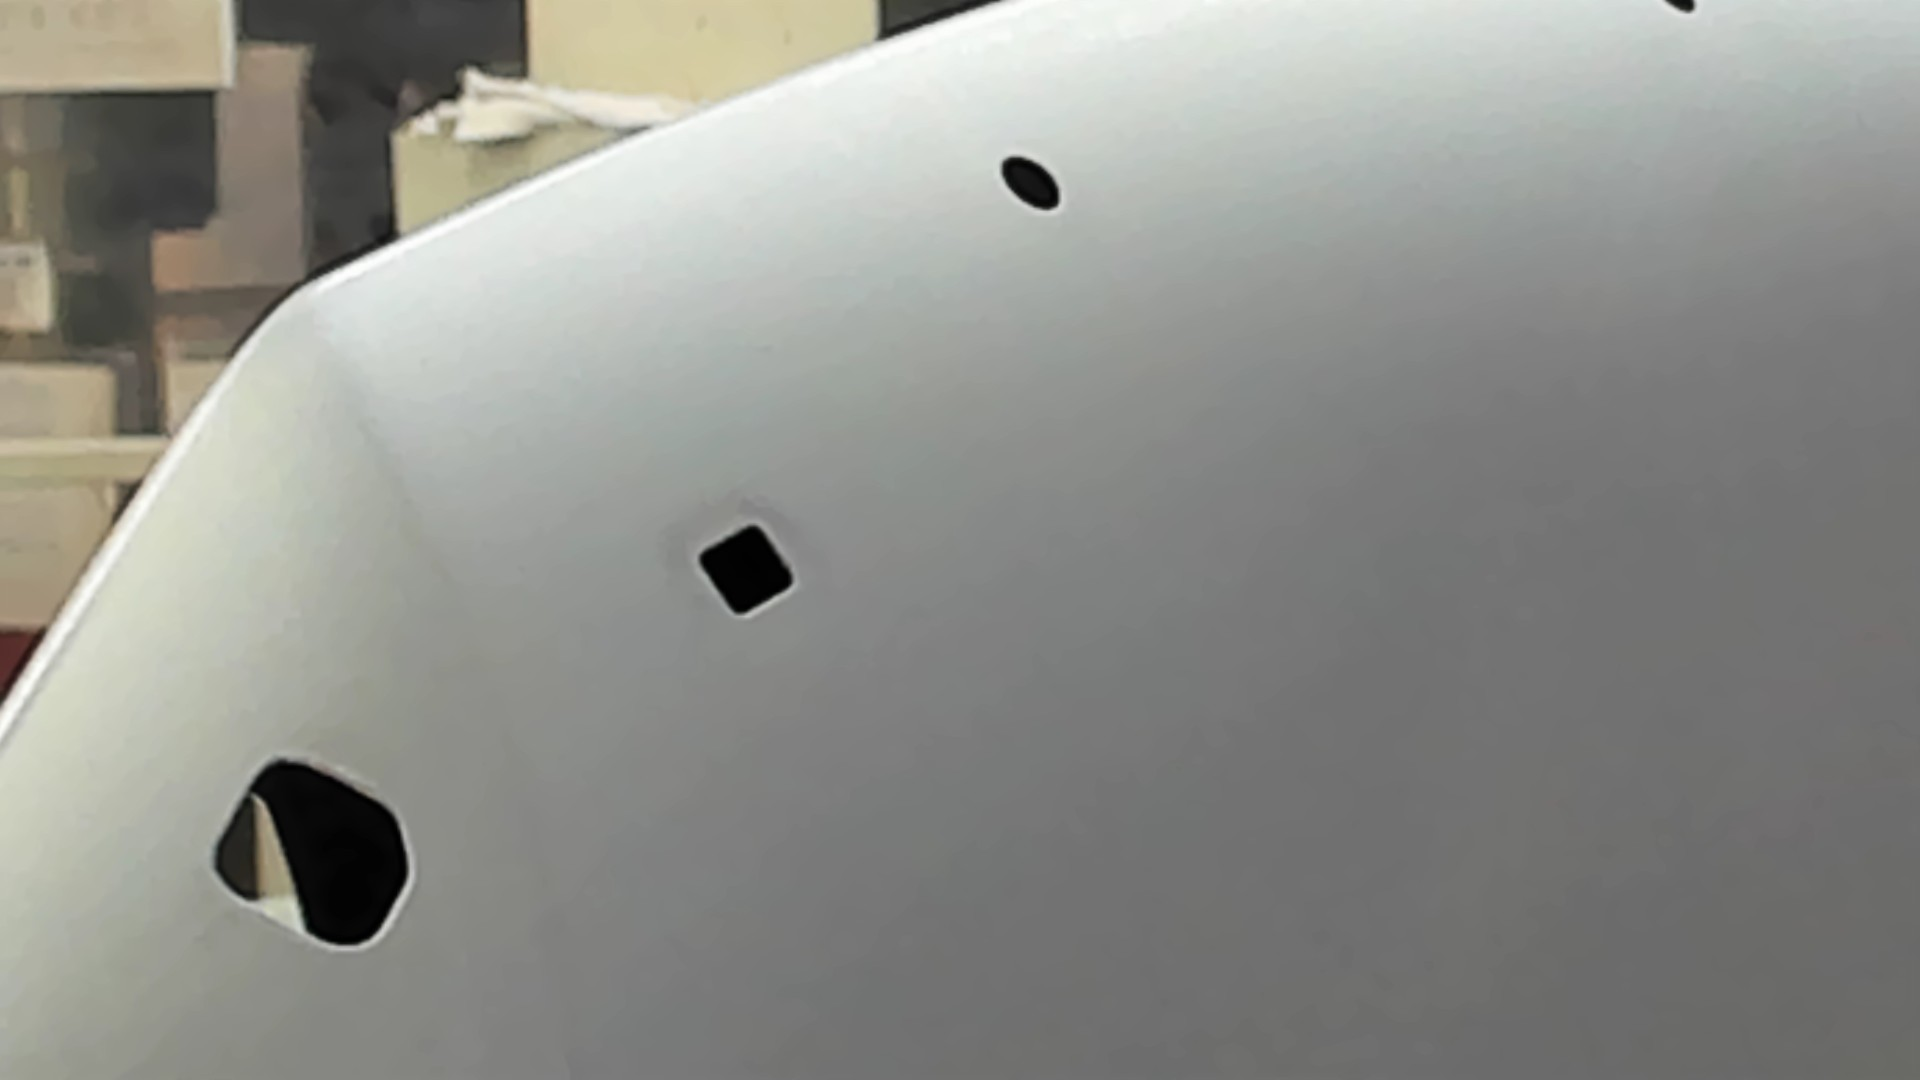chico: (997, 150, 1062, 215), (1662, 1, 1701, 20)
grande: (210, 749, 418, 959)
mediano: (691, 520, 800, 626)
